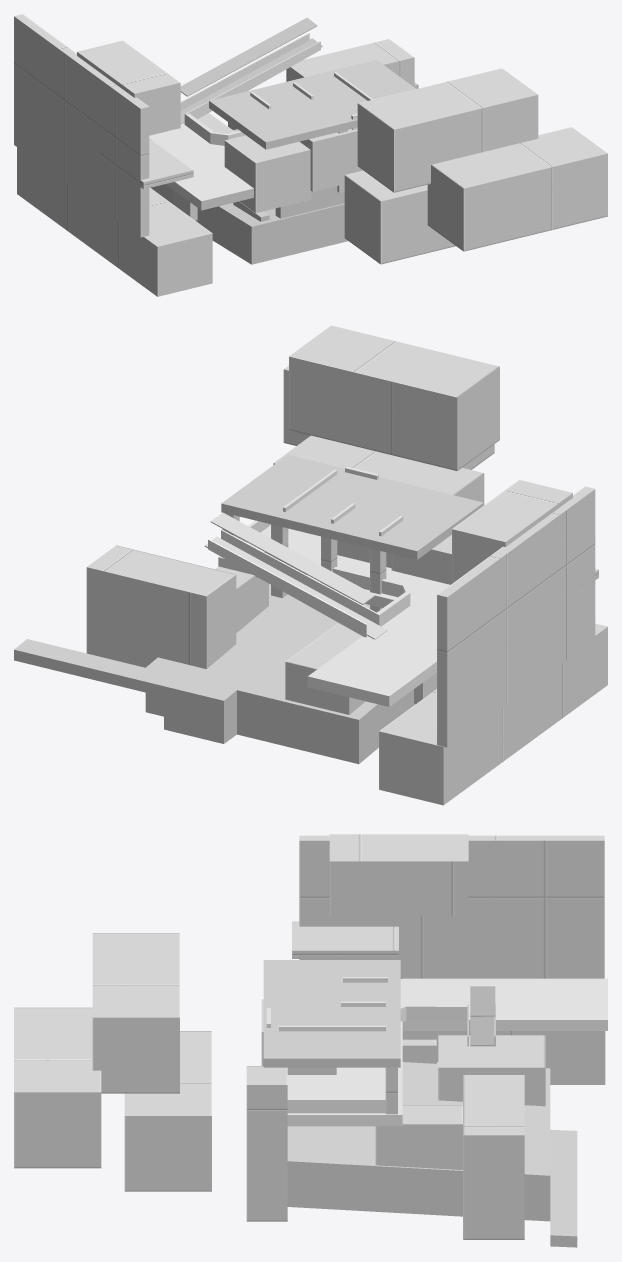
File: Kick_Building.fbx
3 views of the same model, one above another, from view 1: azimuth 30°, elevation 25°; view 2: azimuth 150°, elevation 25°; view 3: azimuth 270°, elevation 25° (orthographic). The views are drawn at different scales.
Visible parts, largest first — view 1: pb_Cube_103623; view 2: pb_Cube_103623; view 3: pb_Cube_103623.
Boxes of the visible parts, x1,y1,x2,y2 form: pb_Cube_103623: [14, 14, 607, 296]; pb_Cube_103623: [14, 325, 607, 805]; pb_Cube_103623: [14, 834, 607, 1247].
Size of the model in its own units: 43.2 by 20.26 by 48.28.
